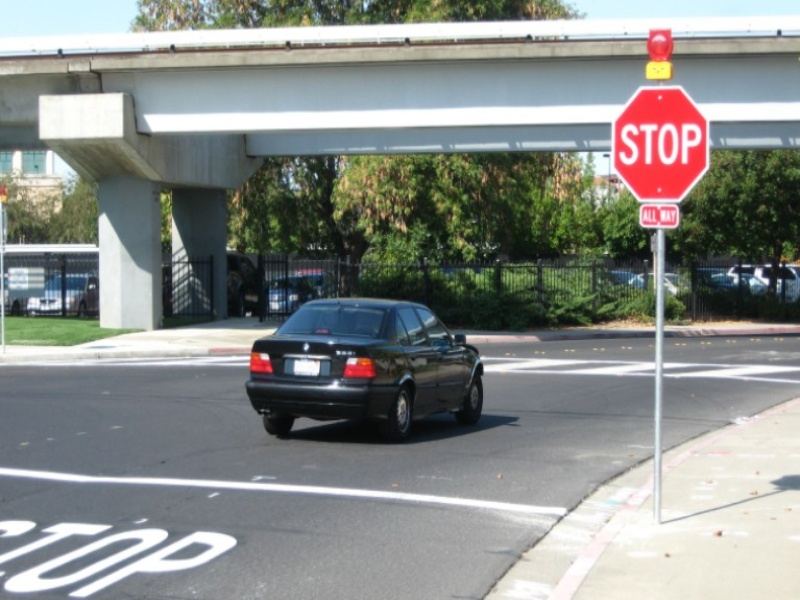stop sign: (609, 84, 713, 205)
